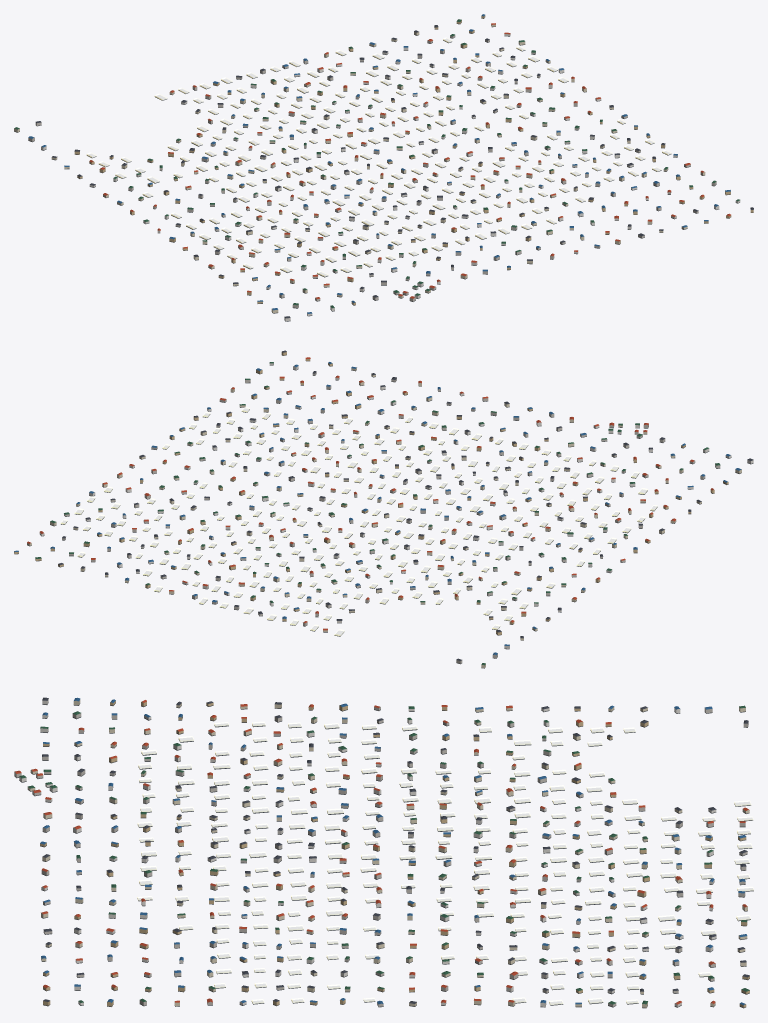
The model's file is buildings_T_E01_N01.glb.
3 views of the same model, one above another, from view 1: azimuth 30°, elevation 25°; view 2: azimuth 150°, elevation 25°; view 3: azimuth 270°, elevation 25° (orthographic). The views are drawn at different scales.
Parts seen in each view (by area): view 1: T_E01_N01_roofs_agri_greenhouse_arch, T_E01_N01_slope_seating_foundations, T_E01_N01_walls_wall_dalat_cream_stucco, T_E01_N01_walls_wall_pastel_sand_gray, T_E01_N01_walls_wall_french_ochre_villa, T_E01_N01_walls_wall_modern_warm_white, T_E01_N01_roofs_roof_slate_French_villa_hip, T_E01_N01_roofs_roof_terracotta_gable, T_E01_N01_roofs_roof_highland_blue_gable, T_E01_N01_roofs_roof_pine_green_hip; view 2: T_E01_N01_roofs_agri_greenhouse_arch, T_E01_N01_slope_seating_foundations, T_E01_N01_walls_wall_dalat_cream_stucco, T_E01_N01_walls_wall_pastel_sand_gray, T_E01_N01_walls_wall_french_ochre_villa, T_E01_N01_walls_wall_modern_warm_white, T_E01_N01_roofs_roof_slate_French_villa_hip, T_E01_N01_roofs_roof_terracotta_gable, T_E01_N01_roofs_roof_highland_blue_gable, T_E01_N01_roofs_roof_pine_green_hip; view 3: T_E01_N01_roofs_agri_greenhouse_arch, T_E01_N01_slope_seating_foundations, T_E01_N01_walls_wall_dalat_cream_stucco, T_E01_N01_walls_wall_pastel_sand_gray, T_E01_N01_walls_wall_french_ochre_villa, T_E01_N01_walls_wall_modern_warm_white, T_E01_N01_roofs_roof_slate_French_villa_hip, T_E01_N01_roofs_roof_terracotta_gable, T_E01_N01_roofs_roof_highland_blue_gable, T_E01_N01_roofs_roof_pine_green_hip.
Part boxes in pixels (x1,y1,x2,y2): T_E01_N01_roofs_agri_greenhouse_arch: (86,37,671,276); T_E01_N01_slope_seating_foundations: (14,17,753,321); T_E01_N01_walls_wall_dalat_cream_stucco: (14,24,705,313); T_E01_N01_walls_wall_pastel_sand_gray: (28,35,716,307); T_E01_N01_walls_wall_french_ochre_villa: (74,15,753,304); T_E01_N01_walls_wall_modern_warm_white: (41,33,740,321); T_E01_N01_roofs_roof_slate_French_villa_hip: (36,25,753,318); T_E01_N01_roofs_roof_terracotta_gable: (89,23,730,299); T_E01_N01_roofs_roof_highland_blue_gable: (28,14,730,313); T_E01_N01_roofs_roof_pine_green_hip: (14,19,739,308); T_E01_N01_roofs_agri_greenhouse_arch: (60,407,657,635); T_E01_N01_slope_seating_foundations: (14,354,753,668); T_E01_N01_walls_wall_dalat_cream_stucco: (27,367,741,667); T_E01_N01_walls_wall_pastel_sand_gray: (62,372,720,663); T_E01_N01_walls_wall_french_ochre_villa: (14,352,728,635); T_E01_N01_walls_wall_modern_warm_white: (39,363,753,648); T_E01_N01_roofs_roof_slate_French_villa_hip: (58,350,753,660); T_E01_N01_roofs_roof_terracotta_gable: (27,357,713,630); T_E01_N01_roofs_roof_highland_blue_gable: (14,362,741,655); T_E01_N01_roofs_roof_pine_green_hip: (35,362,720,665); T_E01_N01_roofs_agri_greenhouse_arch: (137,721,753,1004); T_E01_N01_slope_seating_foundations: (14,702,753,1008); T_E01_N01_walls_wall_dalat_cream_stucco: (27,699,749,1007); T_E01_N01_walls_wall_pastel_sand_gray: (14,706,748,1006); T_E01_N01_walls_wall_french_ochre_villa: (40,701,749,1007); T_E01_N01_walls_wall_modern_warm_white: (19,699,716,1006); T_E01_N01_roofs_roof_slate_French_villa_hip: (42,697,749,1003); T_E01_N01_roofs_roof_terracotta_gable: (14,700,748,1004); T_E01_N01_roofs_roof_highland_blue_gable: (40,697,747,1005); T_E01_N01_roofs_roof_pine_green_hip: (19,705,749,1004).
Size of the model in its own units: 1754 by 45.69 by 1826.
